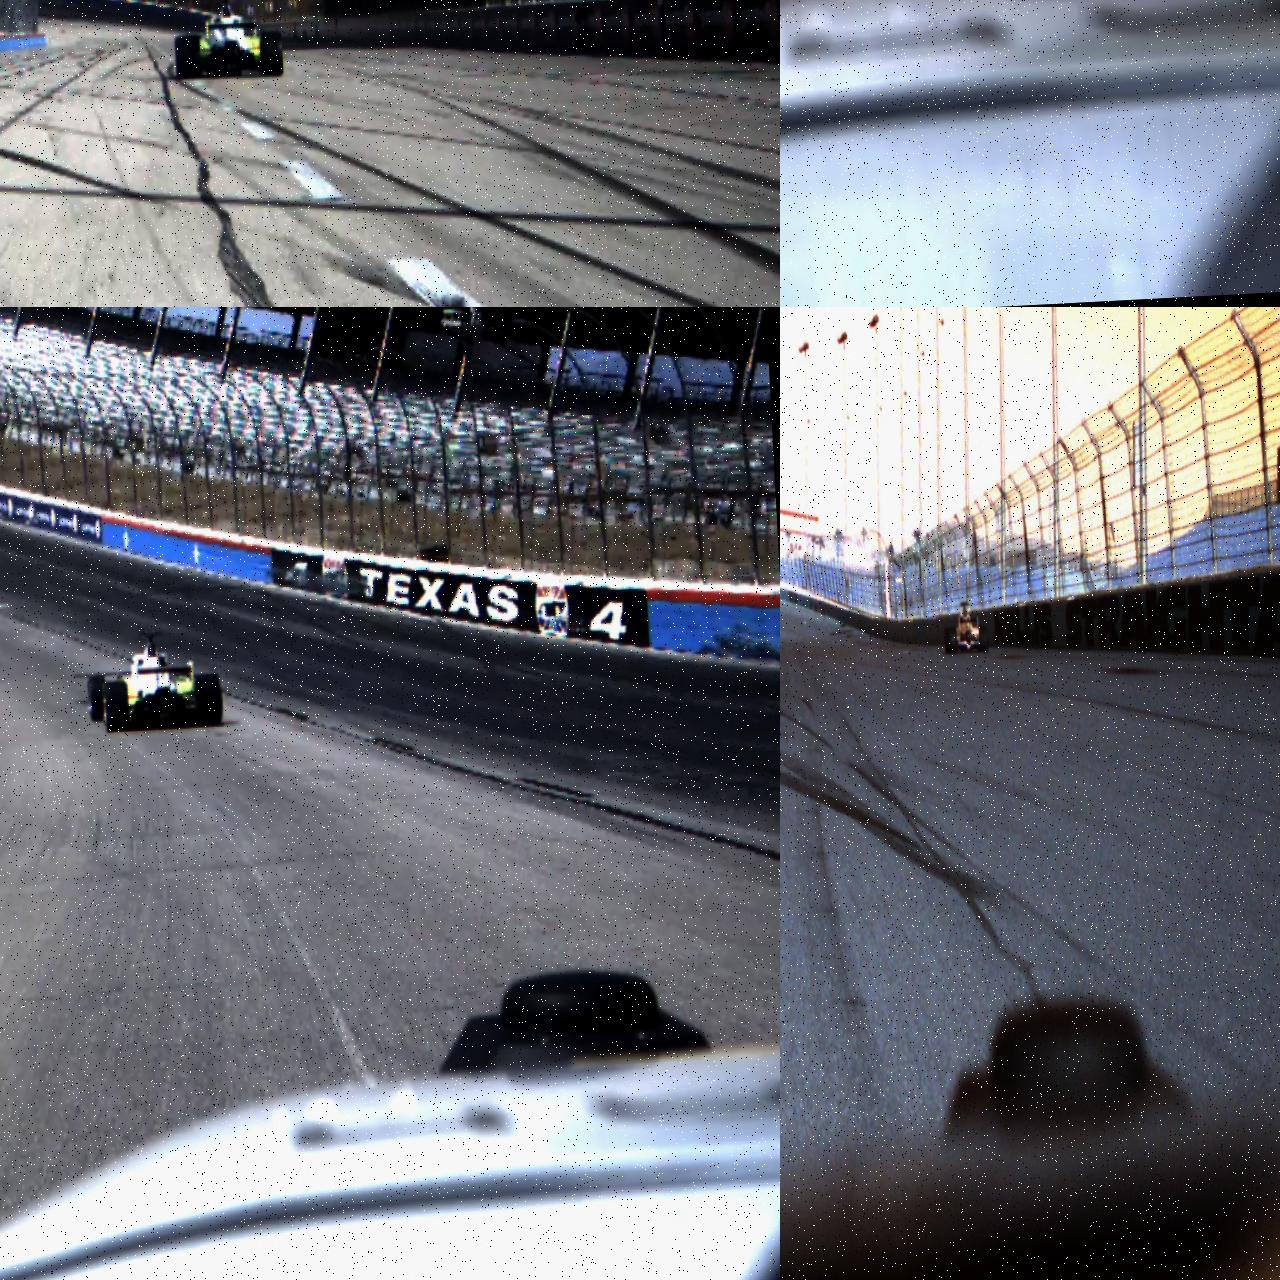AV: (84, 627, 224, 734), (172, 0, 282, 79), (942, 600, 988, 654)
Wheel: (195, 673, 223, 728), (102, 680, 130, 733), (173, 34, 202, 79), (260, 29, 282, 75), (87, 674, 107, 722), (947, 626, 956, 653), (979, 624, 987, 651), (942, 627, 949, 653)
